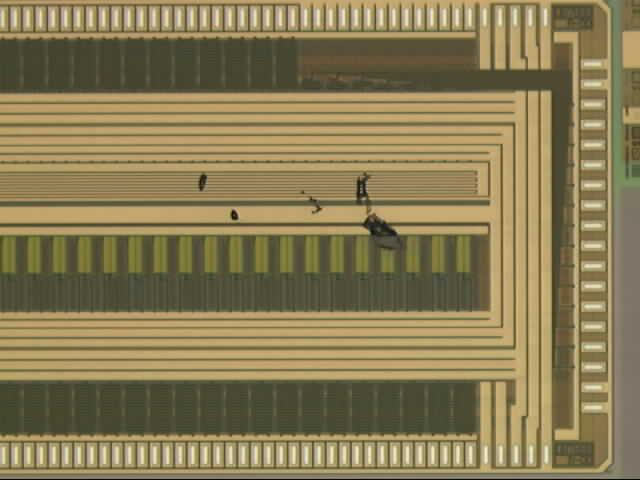PO CONTAMINATION: (190, 167, 406, 256)
